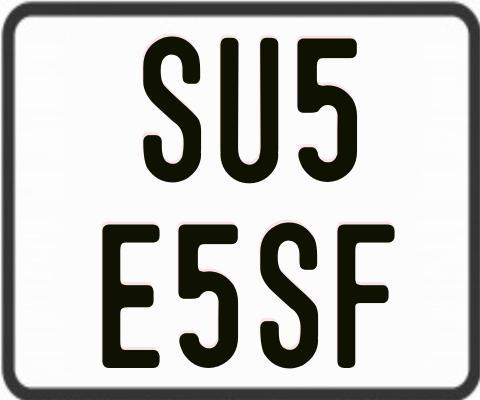5: (294, 36, 358, 184), (178, 221, 239, 370)
E: (102, 224, 163, 370)
F: (335, 224, 398, 373)
S: (260, 221, 322, 367), (142, 36, 200, 186)
U: (218, 36, 276, 182)
